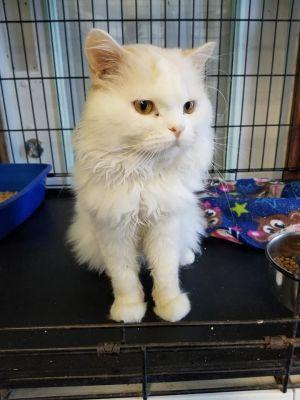persian: (81, 25, 223, 185)
